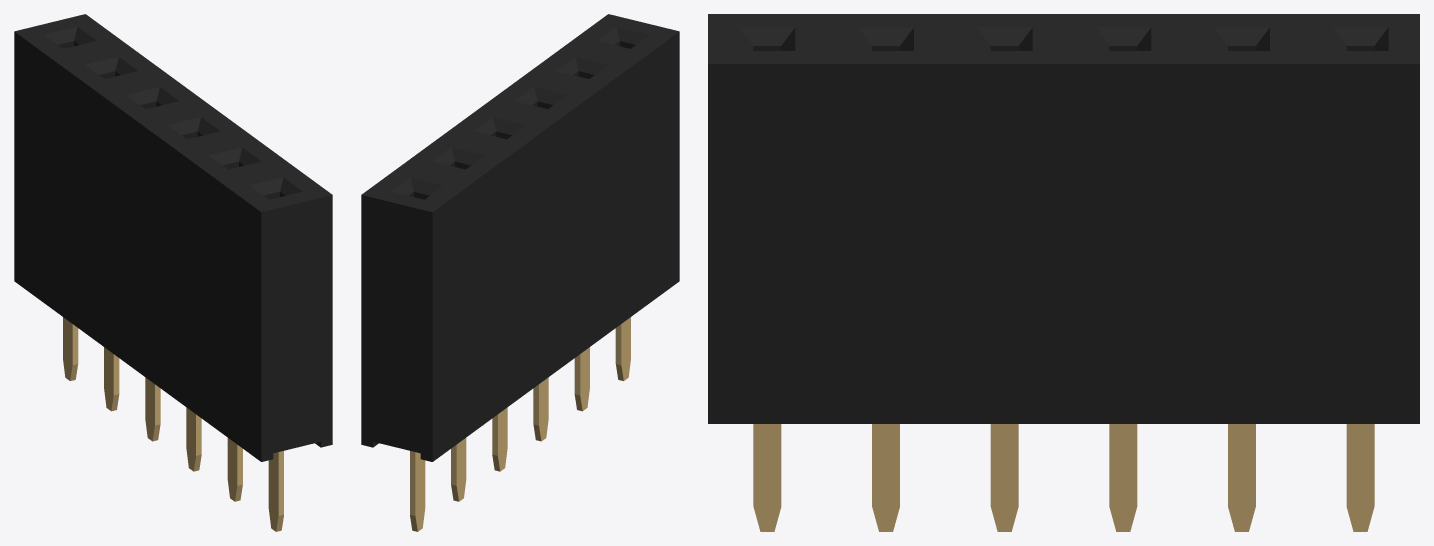
File: PinSocket_1x06_P2.54mm_Vertical.glb
3 views of the same model, side by side, from view 1: azimuth 30°, elevation 25°; view 2: azimuth 150°, elevation 25°; view 3: azimuth 270°, elevation 25° (orthographic). The views are drawn at different scales.
Visible parts, largest first — view 1: =>[0:1:1:3]; view 2: =>[0:1:1:3]; view 3: =>[0:1:1:3].
Boxes of the visible parts, left/top/right/bottom form: =>[0:1:1:3]: left=14, top=14, right=332, bottom=531; =>[0:1:1:3]: left=361, top=14, right=679, bottom=531; =>[0:1:1:3]: left=708, top=14, right=1419, bottom=531.
Bounding box in the file's own units: 0.00254 × 0.0116 × 0.0152.
